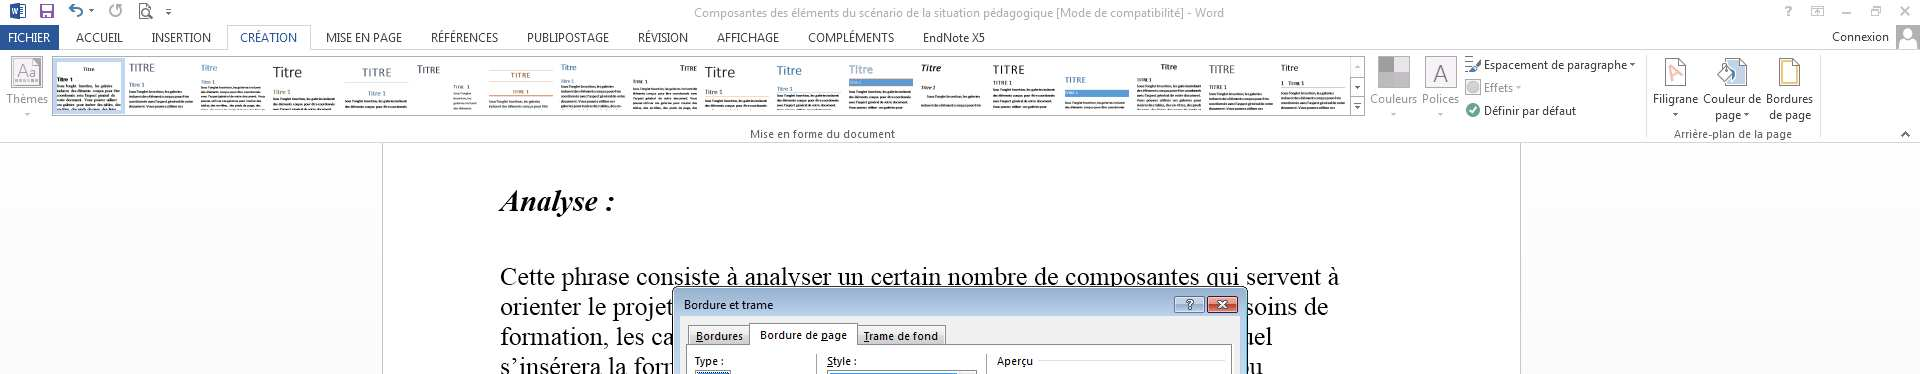texte: (1352, 56, 1411, 116), (1464, 56, 1635, 72), (10, 2, 171, 18), (501, 327, 609, 349), (501, 357, 600, 374), (1485, 105, 1576, 118), (1569, 56, 1635, 72), (809, 29, 894, 42), (269, 59, 302, 87), (140, 0, 175, 26), (432, 29, 498, 42), (1464, 78, 1512, 94), (528, 33, 609, 42), (1674, 129, 1734, 140), (778, 60, 801, 88), (978, 9, 1037, 20), (327, 33, 402, 42), (1896, 25, 1920, 49), (639, 29, 687, 42), (696, 332, 743, 343), (718, 33, 779, 42), (924, 33, 984, 42), (152, 33, 211, 42), (1524, 92, 1539, 125), (1654, 94, 1698, 105), (240, 33, 296, 42), (1704, 94, 1761, 103), (1833, 32, 1888, 40), (617, 327, 644, 345), (844, 130, 895, 139), (634, 357, 659, 374), (1461, 45, 1473, 78), (76, 33, 122, 42), (1767, 94, 1813, 103), (1544, 105, 1576, 118), (1371, 94, 1416, 103), (973, 26, 988, 50), (705, 66, 735, 78), (997, 357, 1032, 367), (109, 0, 122, 26), (618, 26, 632, 50), (789, 26, 802, 50), (1750, 85, 1762, 112), (703, 11, 744, 18), (760, 331, 802, 338), (508, 26, 520, 50), (864, 332, 894, 342), (1554, 45, 1562, 78), (1716, 113, 1749, 121), (609, 357, 624, 374), (1423, 94, 1453, 103), (364, 67, 389, 77), (793, 130, 822, 139), (700, 26, 710, 50), (913, 332, 938, 342), (1434, 65, 1447, 82), (866, 11, 900, 17), (1787, 113, 1811, 121), (1466, 103, 1480, 116), (820, 334, 847, 341), (418, 65, 440, 74), (751, 130, 773, 139), (312, 26, 320, 50), (1767, 132, 1791, 140), (922, 64, 940, 72), (651, 334, 662, 345), (898, 332, 910, 342), (818, 10, 833, 17), (955, 10, 970, 17), (842, 9, 855, 17), (827, 130, 839, 139), (680, 65, 696, 71), (907, 9, 918, 17), (1771, 110, 1782, 119), (1739, 130, 1750, 139), (512, 74, 530, 78), (806, 331, 818, 338), (38, 33, 48, 42), (202, 65, 213, 71), (778, 132, 789, 139), (923, 9, 931, 17), (1755, 130, 1762, 139), (1673, 113, 1678, 116), (943, 11, 945, 17), (1395, 56, 1408, 56)
